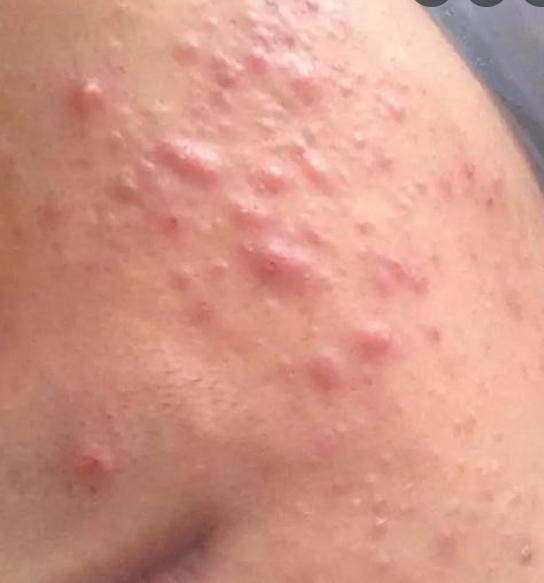papular: (68, 435, 141, 496), (246, 167, 300, 215), (317, 352, 360, 402), (365, 322, 394, 372)
purulent: (65, 75, 109, 120)
sebo-crystan-conglo: (251, 242, 330, 281), (171, 151, 228, 192)
whitehead: (268, 342, 307, 386), (361, 546, 403, 583), (345, 128, 382, 168), (98, 125, 139, 161), (287, 57, 326, 92), (238, 6, 279, 38), (207, 245, 232, 293), (250, 115, 291, 141), (194, 3, 223, 39), (370, 517, 405, 537), (374, 491, 409, 509), (173, 261, 191, 292), (366, 471, 393, 487)
